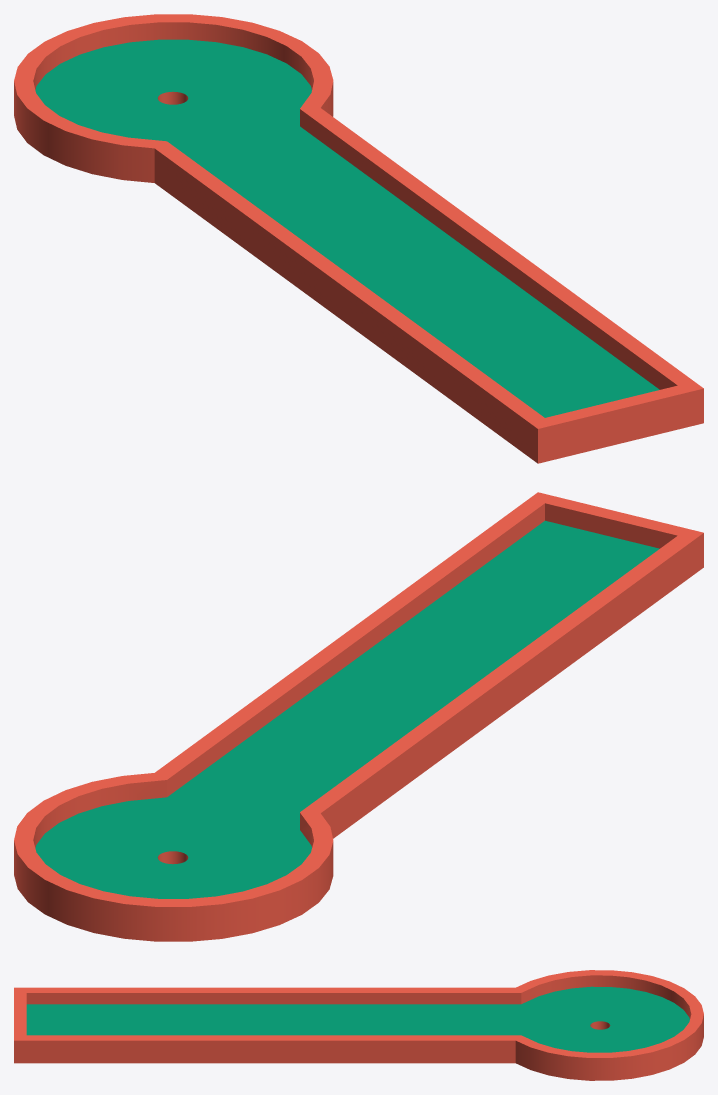
The model's file is Level1.obj.
3 views of the same model, one above another, from view 1: azimuth 30°, elevation 25°; view 2: azimuth 150°, elevation 25°; view 3: azimuth 270°, elevation 25° (orthographic). The views are drawn at different scales.
Visible parts, largest first — view 1: mergedBlocks; view 2: mergedBlocks; view 3: mergedBlocks.
Boxes of the visible parts, bbox=[...] form: mergedBlocks: bbox=[14, 14, 703, 463]; mergedBlocks: bbox=[14, 492, 703, 941]; mergedBlocks: bbox=[14, 970, 703, 1080].
Size of the model in its own units: 1.66 by 0.2 by 5.5.
1 material, 1 textured.
